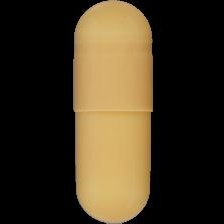69176-200: (0, 0, 224, 224)
